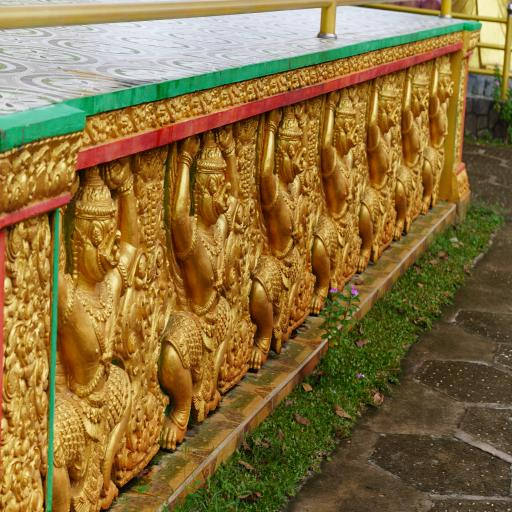than: (42, 156, 140, 512), (155, 121, 247, 461), (240, 100, 325, 366), (306, 73, 377, 309), (353, 60, 407, 278), (419, 32, 462, 216), (392, 53, 430, 242)
